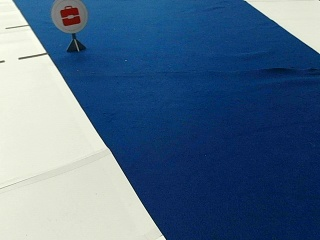company: (51, 1, 88, 33)
